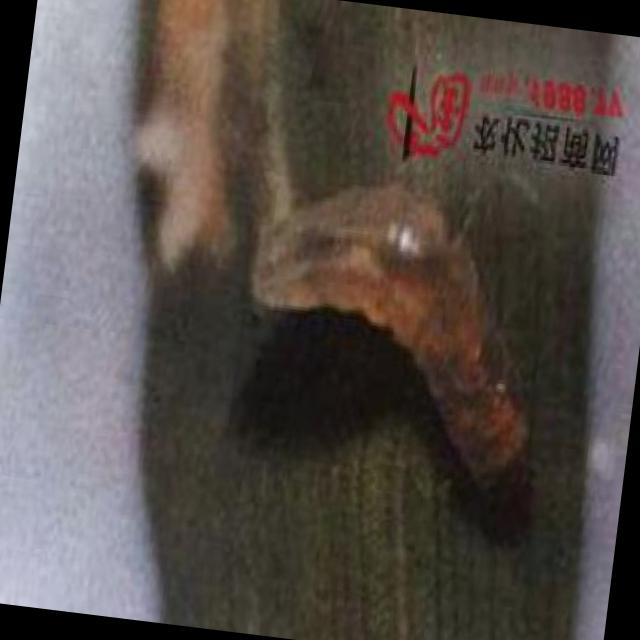whorl-maggot: (252, 182, 533, 505)
